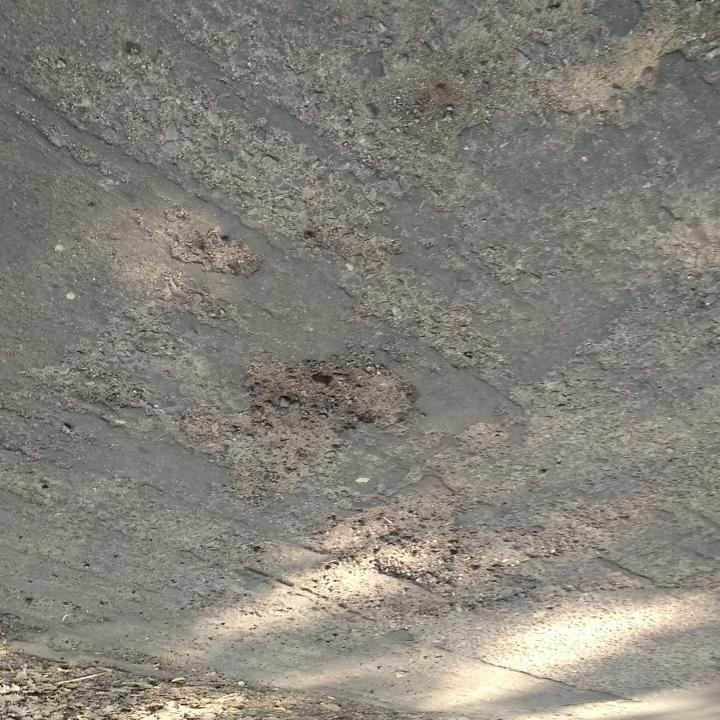pothole: (237, 344, 421, 436), (317, 497, 463, 585), (168, 225, 266, 280)
